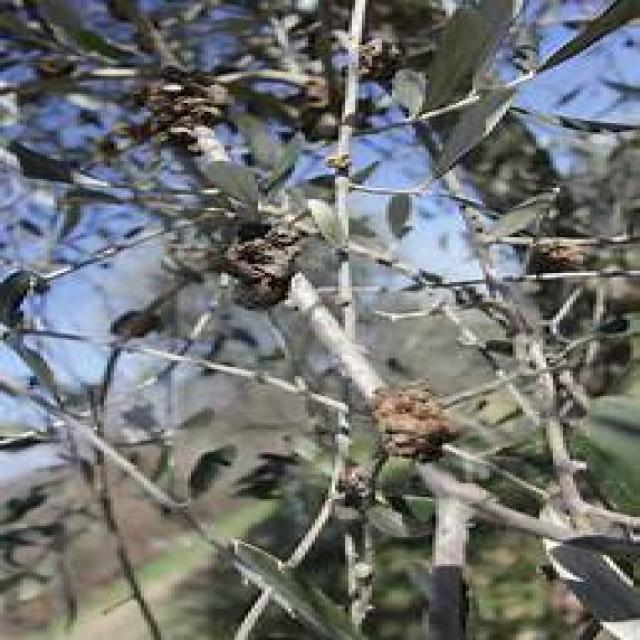Tuberculosis: (208, 224, 305, 309), (141, 67, 221, 152), (375, 383, 459, 459)
